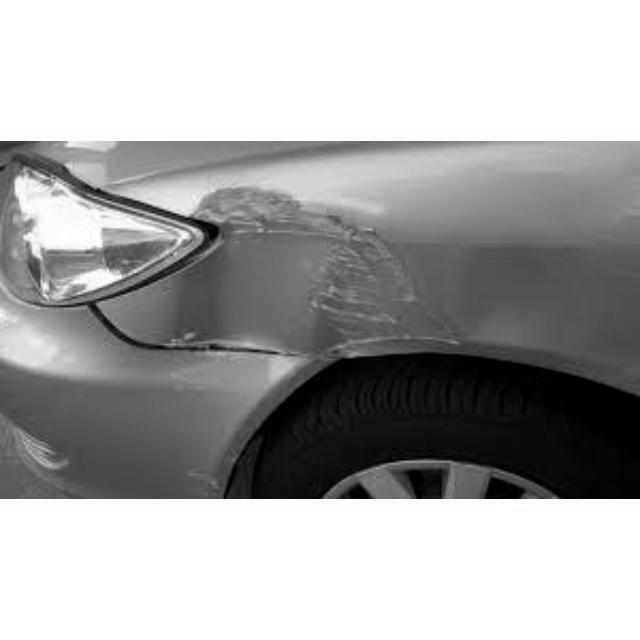fender-dent: (157, 173, 534, 397)
